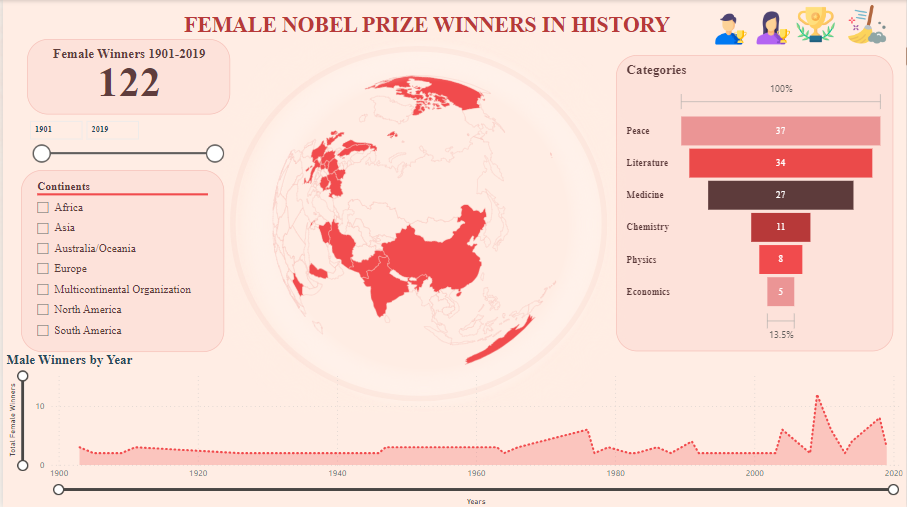

This screenshot's page, from the dashboard's own definition file:
{"tool":"powerbi","page":{"name":"Female","canvas":[1280,720],"ordinal":2},"visuals":[{"type":"shapeMap","fields":{"Category":["nobel_prize_awarded_1901_2019.Countries"],"Value":["AMeasures.Woman"]},"box":[357.3,79.3,450,464.8],"z":0},{"type":"image","box":[252.6,47,690.5,542.7],"z":1000},{"type":"shape","box":[321.1,65.8,534.7,503.8],"z":2000},{"type":"slicer","fields":{"Values":["nobel_prize_awarded_1901_2019.Continents"]},"box":[25,240.4,288,258.2],"z":3000},{"type":"card","title":"Female Winners 1901-2019","fields":{"Values":["AMeasures.Woman"]},"box":[33.3,54.7,288,107.1],"z":4000},{"type":"slicer","fields":{"Values":["nobel_prize_awarded_1901_2019.Year"]},"box":[26.2,161.9,295.1,78.5],"z":5000},{"type":"stackedAreaChart","title":"Male Winners by Year","fields":{"Category":["nobel_prize_awarded_1901_2019.Year"],"Y":["AMeasures.Woman"]},"box":[0,498.4,1280.3,223],"z":6000},{"type":"funnel","title":"Categories","fields":{"Category":["nobel_prize_awarded_1901_2019.Category"],"Y":["AMeasures.Woman"]},"box":[868.8,78.5,392.7,420.1],"z":7000},{"type":"image","box":[1187.6,1.3,73.9,65.8],"z":8000},{"type":"image","box":[1055.6,0,71.4,78.5],"z":9000},{"type":"image","box":[998.5,2.4,66.6,76.2],"z":10000},{"type":"image","box":[1117.5,2.4,70.2,64.3],"z":11000},{"type":"shape","title":"FEMALE NOBEL PRIZE WINNERS IN HISTORY","box":[299.9,19,698.6,35.7],"z":12000}]}

Visuals, with their boxes in screenshot pixels (x1, y1, x2, y2), scaled from the page's 1280x720 canvas onto the 907x507 screenshot:
shapeMap - nobel_prize_awarded_1901_2019.Countries x AMeasures.Woman: detection(253, 56, 572, 383)
image: detection(179, 33, 668, 415)
shape: detection(228, 46, 606, 401)
slicer - nobel_prize_awarded_1901_2019.Continents: detection(18, 169, 222, 351)
"Female Winners 1901-2019" card: detection(24, 39, 228, 114)
slicer - nobel_prize_awarded_1901_2019.Year: detection(19, 114, 228, 169)
"Male Winners by Year" stackedAreaChart: detection(0, 351, 906, 506)
"Categories" funnel: detection(616, 55, 894, 351)
image: detection(842, 1, 894, 47)
image: detection(748, 0, 799, 55)
image: detection(708, 2, 755, 55)
image: detection(792, 2, 842, 47)
"FEMALE NOBEL PRIZE WINNERS IN HISTORY" shape: detection(213, 13, 708, 39)
